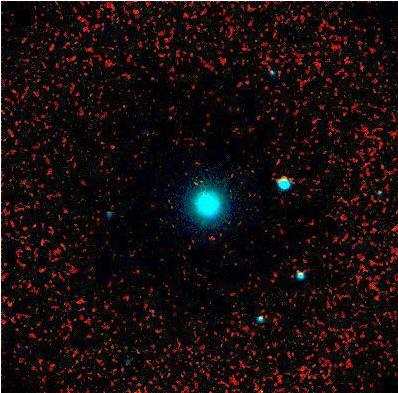star: (199, 203, 229, 233)
